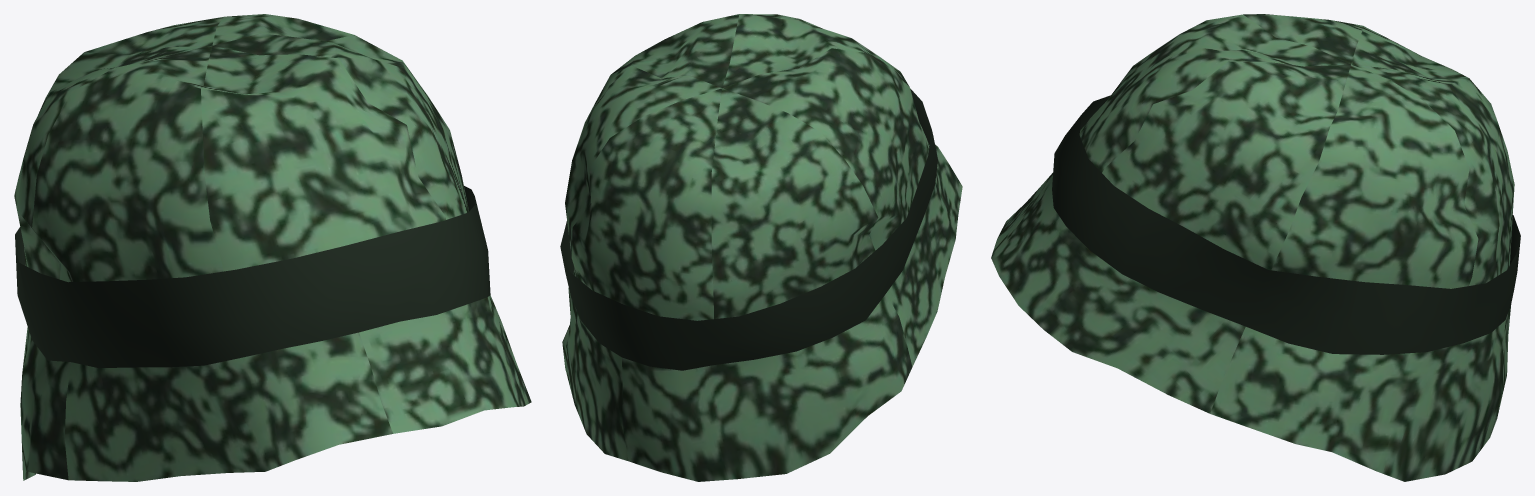
The model's file is aethelraed-unraed-cloche-hat.glb.
The picture shows the model from 3 angles, left to right: view 1: azimuth 30°, elevation 25°; view 2: azimuth 150°, elevation 25°; view 3: azimuth 270°, elevation 25°; orthographic projection. The views are drawn at different scales.
Parts seen in each view (by area): view 1: Human.aethelraed_unraed_cloche_hat; view 2: Human.aethelraed_unraed_cloche_hat; view 3: Human.aethelraed_unraed_cloche_hat.
Part boxes in pixels (bbox=[...]): Human.aethelraed_unraed_cloche_hat: bbox=[14, 14, 531, 481]; Human.aethelraed_unraed_cloche_hat: bbox=[560, 14, 962, 481]; Human.aethelraed_unraed_cloche_hat: bbox=[991, 14, 1520, 481].
Bounding box in the file's own units: 0.1945 × 0.2024 × 0.2497.
Materials: 1 (1 with a texture image).
